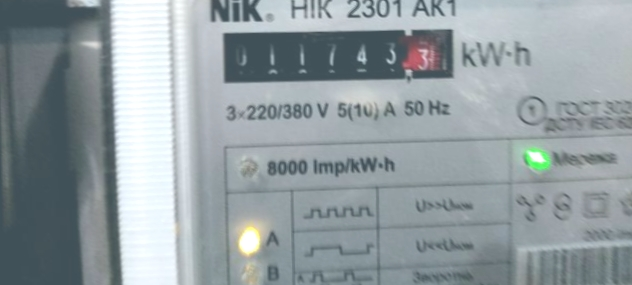0: (233, 39, 248, 67)
1: (294, 37, 307, 66), (265, 38, 276, 65)
3: (383, 37, 398, 65), (415, 45, 429, 71)
4: (353, 38, 368, 66)
7: (323, 36, 339, 65)
screen: (211, 13, 466, 95)
